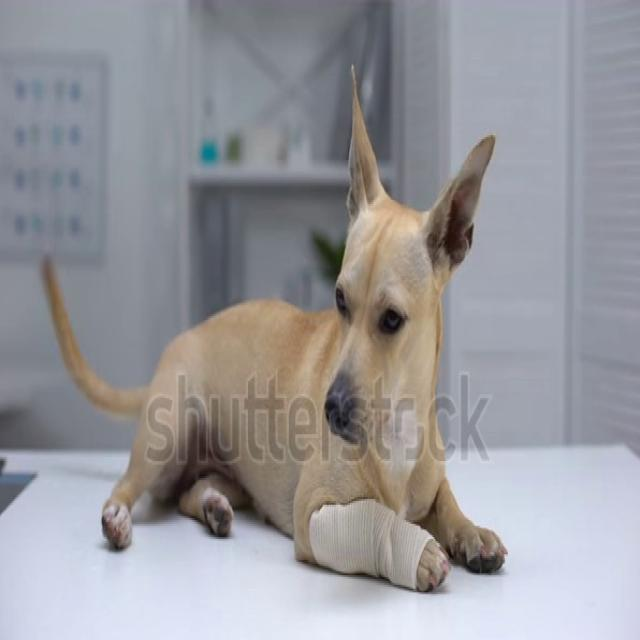injured-animals: (38, 59, 511, 598)
